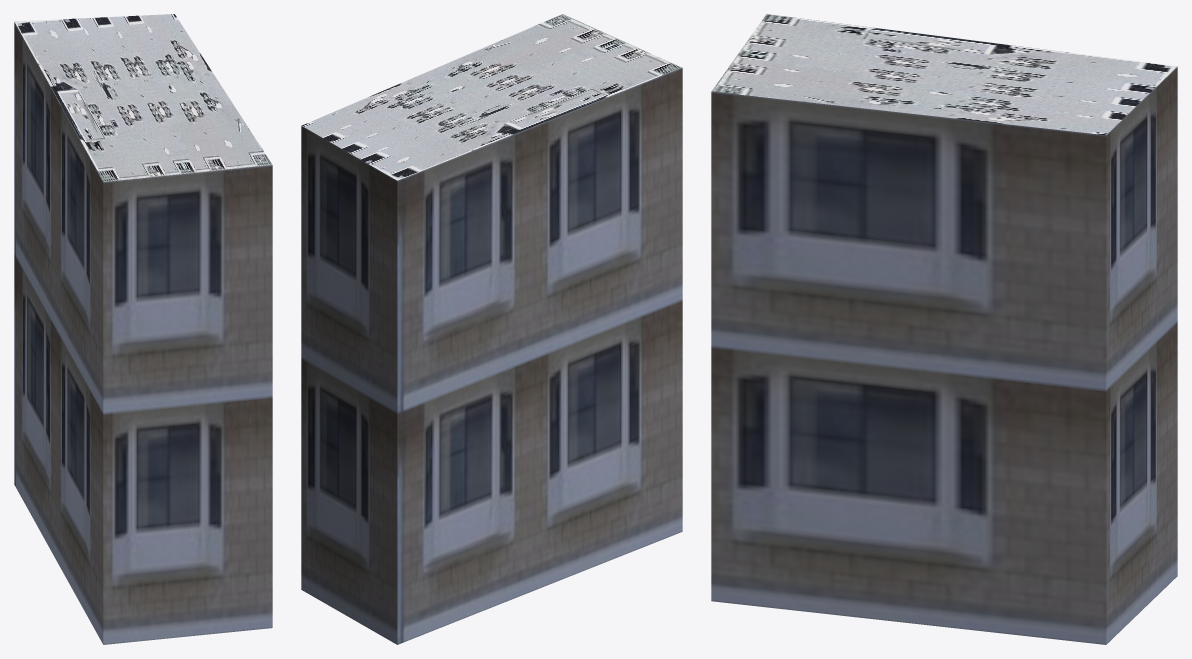
File: ResTex__2239.fbx
The picture shows the model from 3 angles, left to right: view 1: azimuth 30°, elevation 25°; view 2: azimuth 150°, elevation 25°; view 3: azimuth 270°, elevation 25°; orthographic projection. The views are drawn at different scales.
Parts seen in each view (by area): view 1: CityEngineMaterial_3_m, CityEngineMaterial_m; view 2: CityEngineMaterial_3_m, CityEngineMaterial_m; view 3: CityEngineMaterial_3_m, CityEngineMaterial_m.
Boxes of the visible parts, x1=… form: CityEngineMaterial_3_m: x1=14, y1=22, x2=272, y2=644; CityEngineMaterial_m: x1=14, y1=14, x2=272, y2=181; CityEngineMaterial_3_m: x1=301, y1=67, x2=682, y2=644; CityEngineMaterial_m: x1=302, y1=14, x2=681, y2=180; CityEngineMaterial_3_m: x1=711, y1=67, x2=1177, y2=644; CityEngineMaterial_m: x1=711, y1=14, x2=1177, y2=135.
Bounding box in the file's own units: 3.06 × 6 × 4.97.
Materials: 2 (2 with a texture image).
